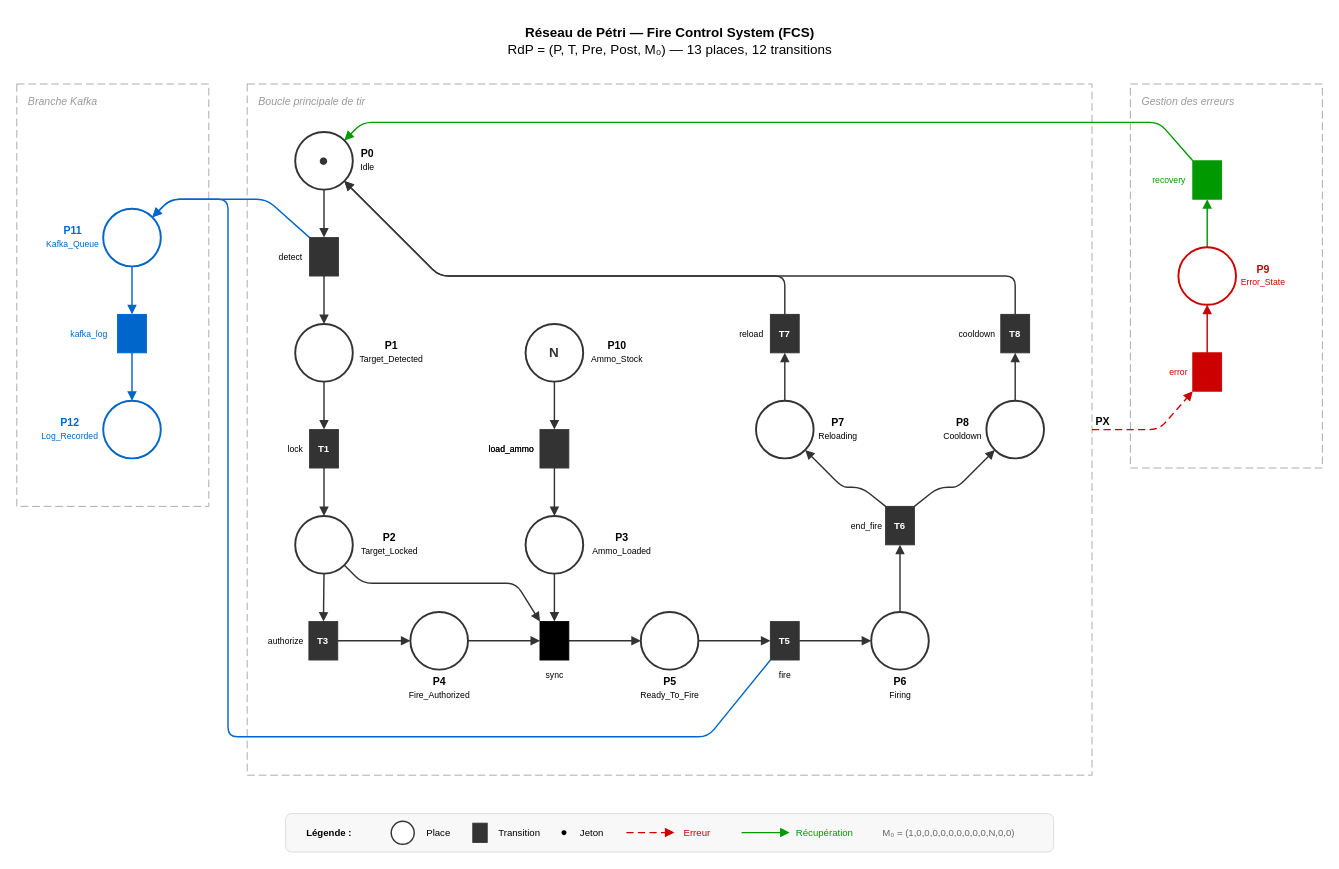
The diagram is 1339 pixels wide and 869 high, and some of its shapes have lost their labels. The shapes that lost their labels are listed below. From the top down, each one's centre as x and y in pixels, then its label:
At [1207,179]: "T10".
At [323,256]: "T0".
At [131,333]: "T11".
At [1207,371]: "T9".
At [554,448]: "T2".
At [554,640]: "T4".
